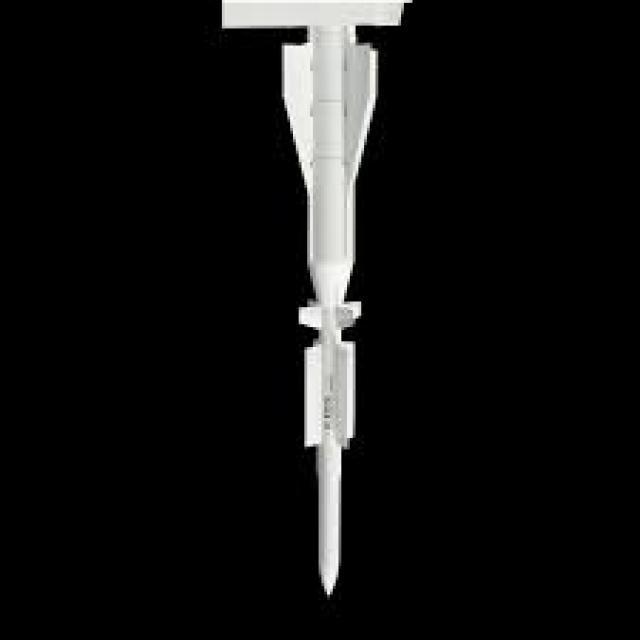Missile: (308, 430, 352, 604)
